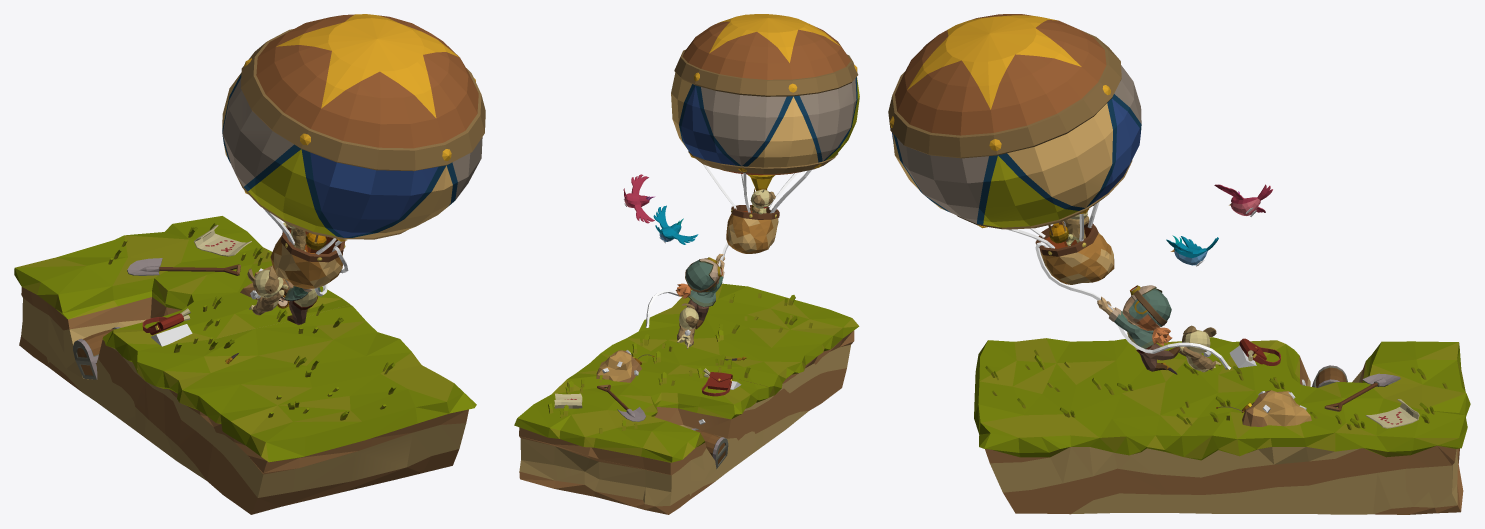
File: 0028_hotAirBalloon.fbx
3 renders of one model, left to right at view 1: azimuth 30°, elevation 25°; view 2: azimuth 150°, elevation 25°; view 3: azimuth 270°, elevation 25°, orthographic. The views are drawn at different scales.
Visible parts, largest first — view 1: AirBalloon_Balloon, Ground_B, Ground_A, AirBalloon_Basket, Chest, Shovel, Map, Dog_A_Head; view 2: Ground_A, AirBalloon_Balloon, Ground_B, AirBalloon_Basket, Boy_Head, Dirt, AirBalloon_Rope_M, Bird_B, Bird_A, Chest, Shovel, Map (+2 smaller); view 3: AirBalloon_Balloon, Ground_B, Ground_A, AirBalloon_Basket, Dirt, Boy_Head, AirBalloon_Rope_L, Boy_Body, Map, Bird_B, Bird_A, Shovel.
Part boxes in pixels (bbox=[...]): AirBalloon_Balloon: bbox=[222, 14, 485, 241]; Ground_B: bbox=[137, 305, 476, 514]; Ground_A: bbox=[14, 216, 350, 437]; AirBalloon_Basket: bbox=[270, 227, 345, 288]; Chest: bbox=[73, 327, 120, 379]; Shovel: bbox=[127, 258, 240, 275]; Map: bbox=[194, 225, 251, 256]; Dog_A_Head: bbox=[247, 265, 283, 297]; Ground_A: bbox=[514, 347, 768, 514]; AirBalloon_Balloon: bbox=[671, 14, 859, 190]; Ground_B: bbox=[610, 283, 859, 445]; AirBalloon_Basket: bbox=[726, 205, 779, 253]; Boy_Head: bbox=[675, 258, 718, 298]; Dirt: bbox=[596, 350, 641, 382]; AirBalloon_Rope_M: bbox=[703, 164, 811, 213]; Bird_B: bbox=[623, 174, 655, 223]; Bird_A: bbox=[653, 205, 698, 244]; Chest: bbox=[692, 428, 728, 469]; Shovel: bbox=[597, 384, 645, 421]; Map: bbox=[554, 393, 582, 408]; AirBalloon_Balloon: bbox=[888, 14, 1141, 229]; Ground_B: bbox=[974, 337, 1218, 514]; Ground_A: bbox=[1218, 338, 1470, 514]; AirBalloon_Basket: bbox=[1035, 220, 1114, 284]; Dirt: bbox=[1242, 390, 1311, 426]; Boy_Head: bbox=[1122, 285, 1172, 345]; AirBalloon_Rope_L: bbox=[1035, 242, 1230, 369]; Boy_Body: bbox=[1097, 296, 1153, 349]; Map: bbox=[1365, 399, 1419, 428]; Bird_B: bbox=[1214, 184, 1272, 215]; Bird_A: bbox=[1166, 235, 1218, 265]; Shovel: bbox=[1324, 373, 1400, 411].
Size of the model in its own units: 5.99 by 11.75 by 14.03.
